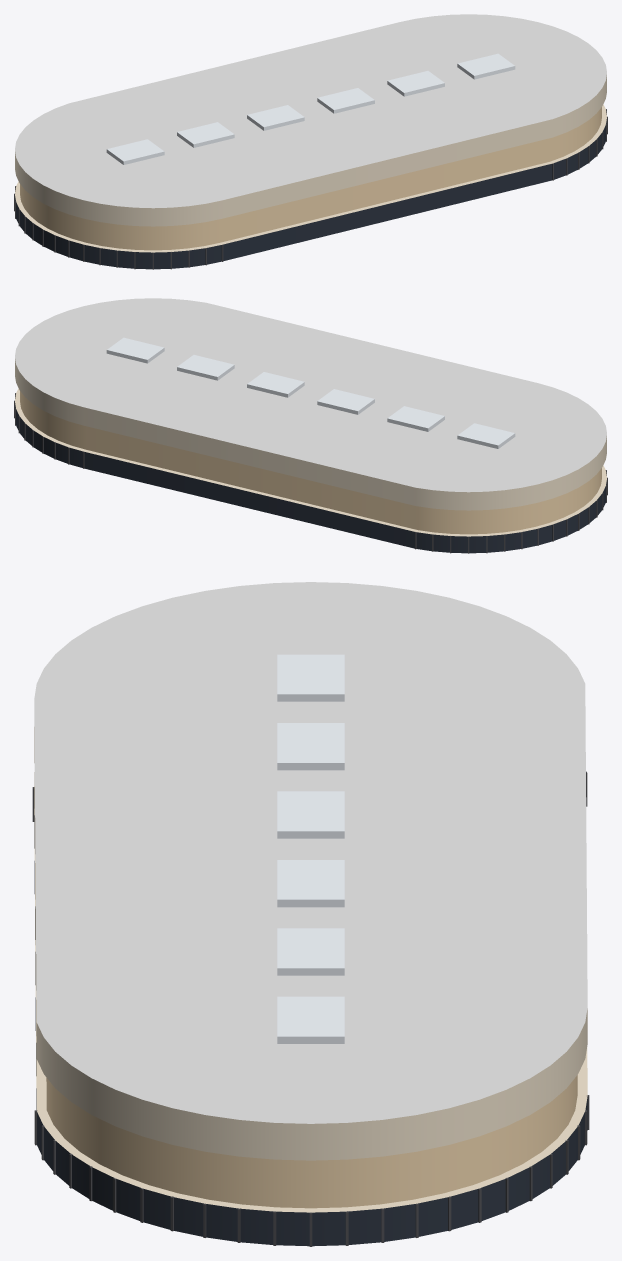
Rendered from SM_KingdomMall.fbx.
3 views of the same model, one above another, from view 1: azimuth 30°, elevation 25°; view 2: azimuth 150°, elevation 25°; view 3: azimuth 270°, elevation 25° (orthographic). The views are drawn at different scales.
Visible parts, largest first — view 1: SM_KingdomMall; view 2: SM_KingdomMall; view 3: SM_KingdomMall.
Part boxes in pixels (<box>): SM_KingdomMall: <box>14,14,607,269</box>; SM_KingdomMall: <box>14,298,607,553</box>; SM_KingdomMall: <box>32,582,589,1246</box>.
Bounding box in the file's own units: 19050 × 2120 × 8250.
